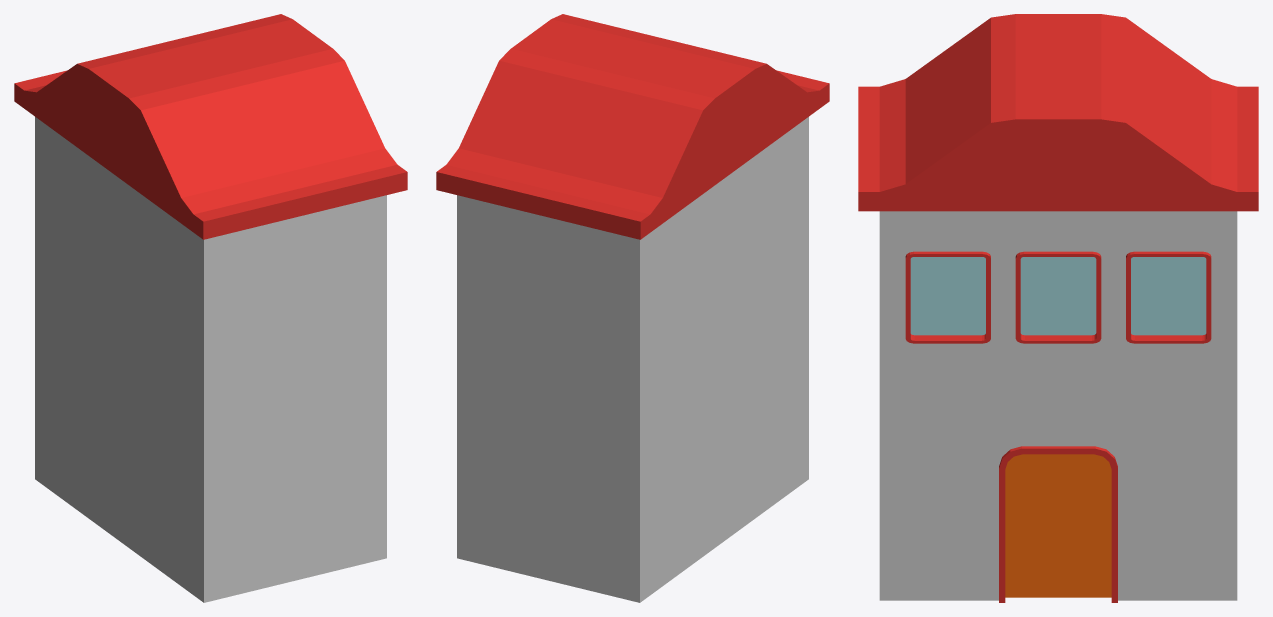
File: Building 2.fbx
The picture shows the model from 3 angles, left to right: view 1: azimuth 30°, elevation 25°; view 2: azimuth 150°, elevation 25°; view 3: azimuth 270°, elevation 25°; orthographic projection. The views are drawn at different scales.
Visible parts, largest first — view 1: Building 4; view 2: Building 4; view 3: Building 4.
Part boxes in pixels (<box>): Building 4: <box>14,14,407,602</box>; Building 4: <box>436,14,829,602</box>; Building 4: <box>858,14,1258,602</box>.
Size of the model in its own units: 312 by 672 by 501.
